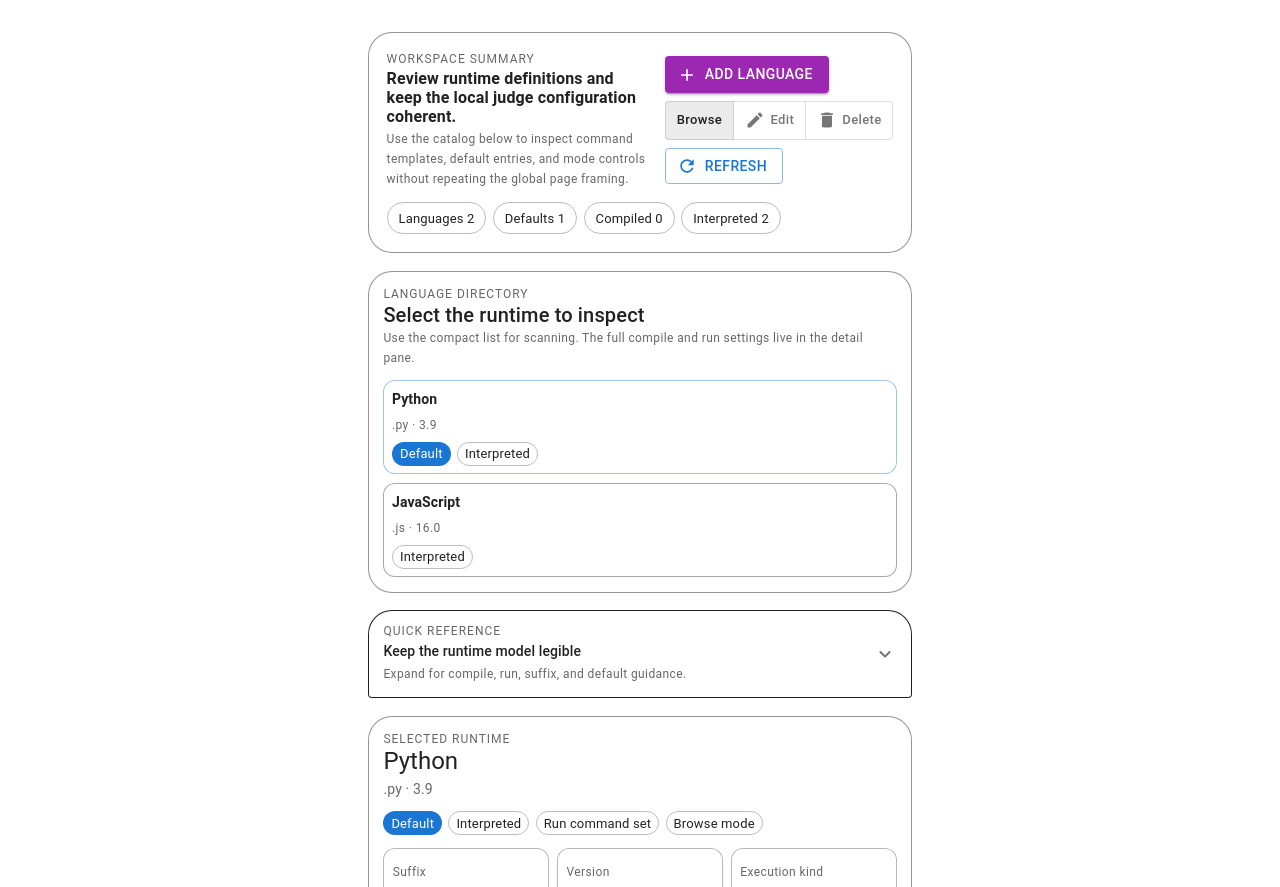
Test: LanguageAdmin Component › deletes a language successfully
Expected: the heading "JavaScript" is shown, [392, 492, 460, 514]
# Enable delete mode and wait for it to take effect
Click the button with aria-label "delete mode" at x=849, y=120, box [805, 101, 893, 140]
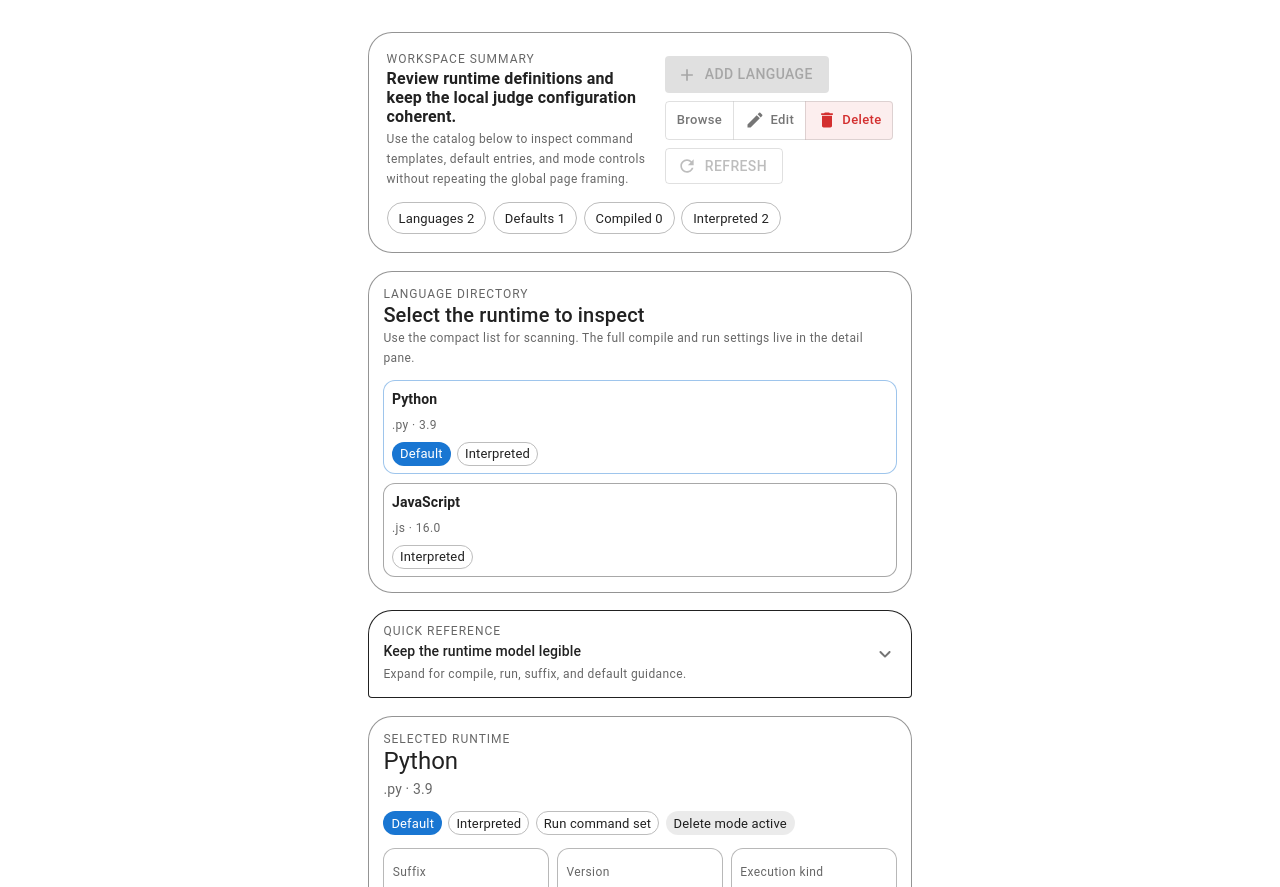
# Select JavaScript, then click its delete button.
Click the option with aria-label "javascript runtime" at x=426, y=502, box [383, 483, 897, 577]
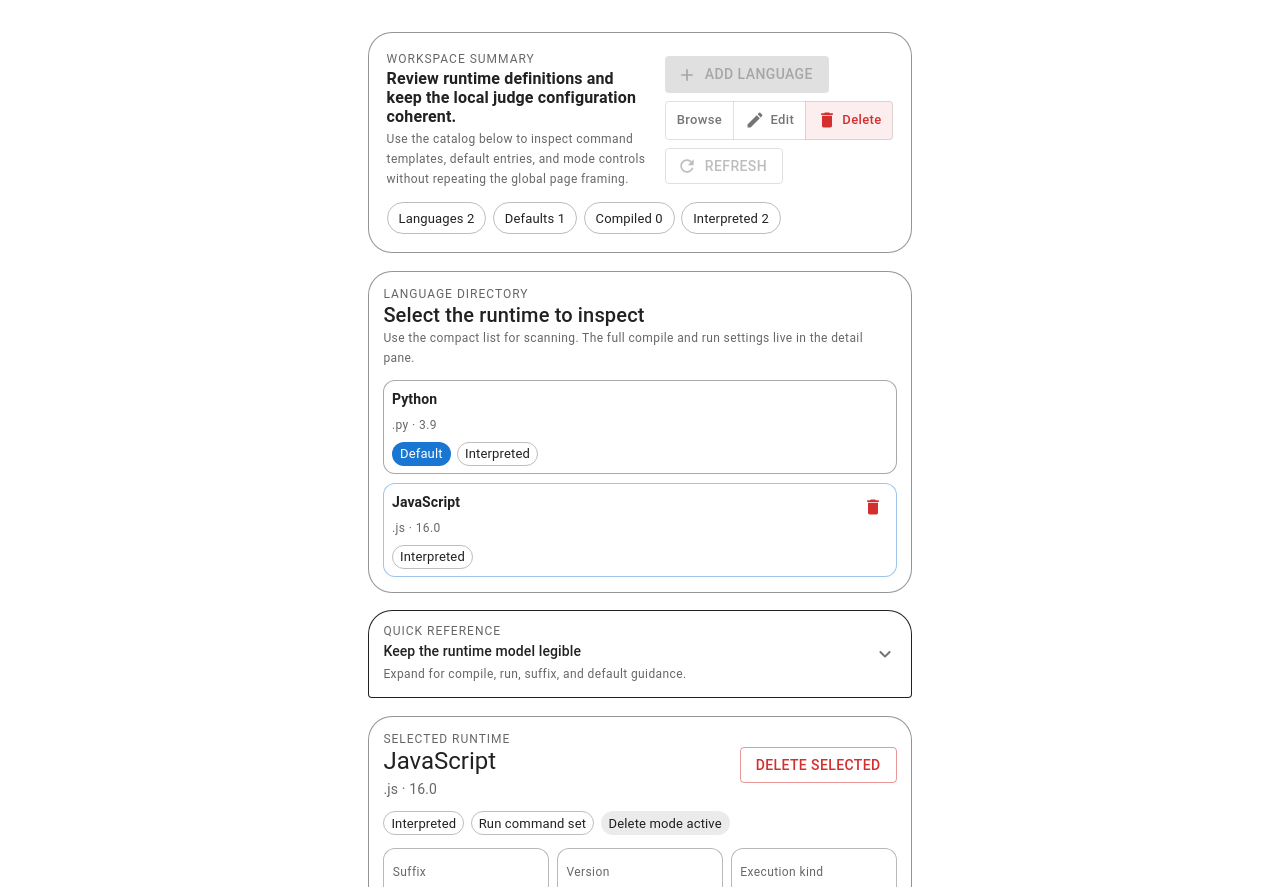
Result: the button named "delete javascript" is shown
Click the button named "delete javascript" at x=873, y=507, box [858, 492, 888, 522]
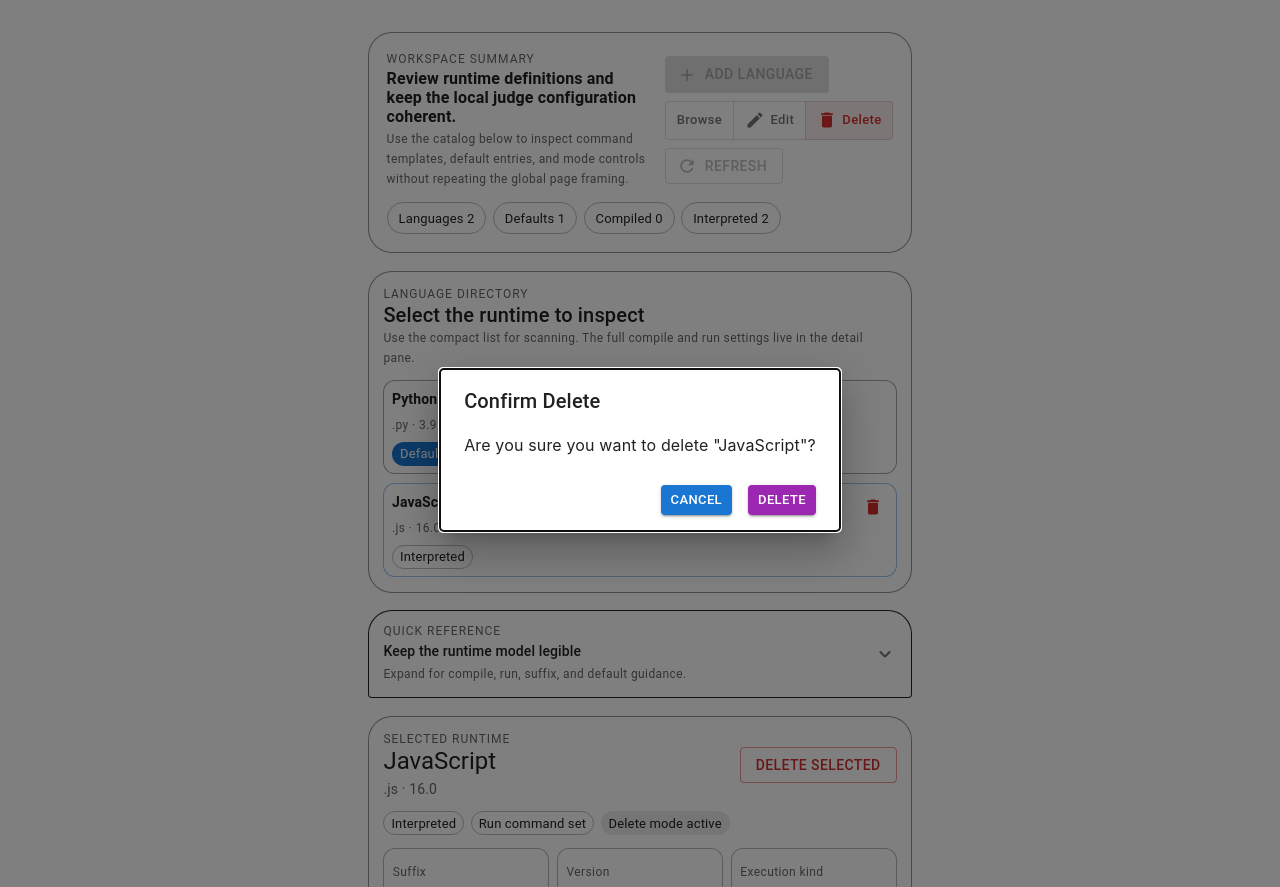
Result: the dialog is shown at [440, 369, 840, 531]
Click the button "Delete" at x=782, y=500, box [748, 485, 816, 515]
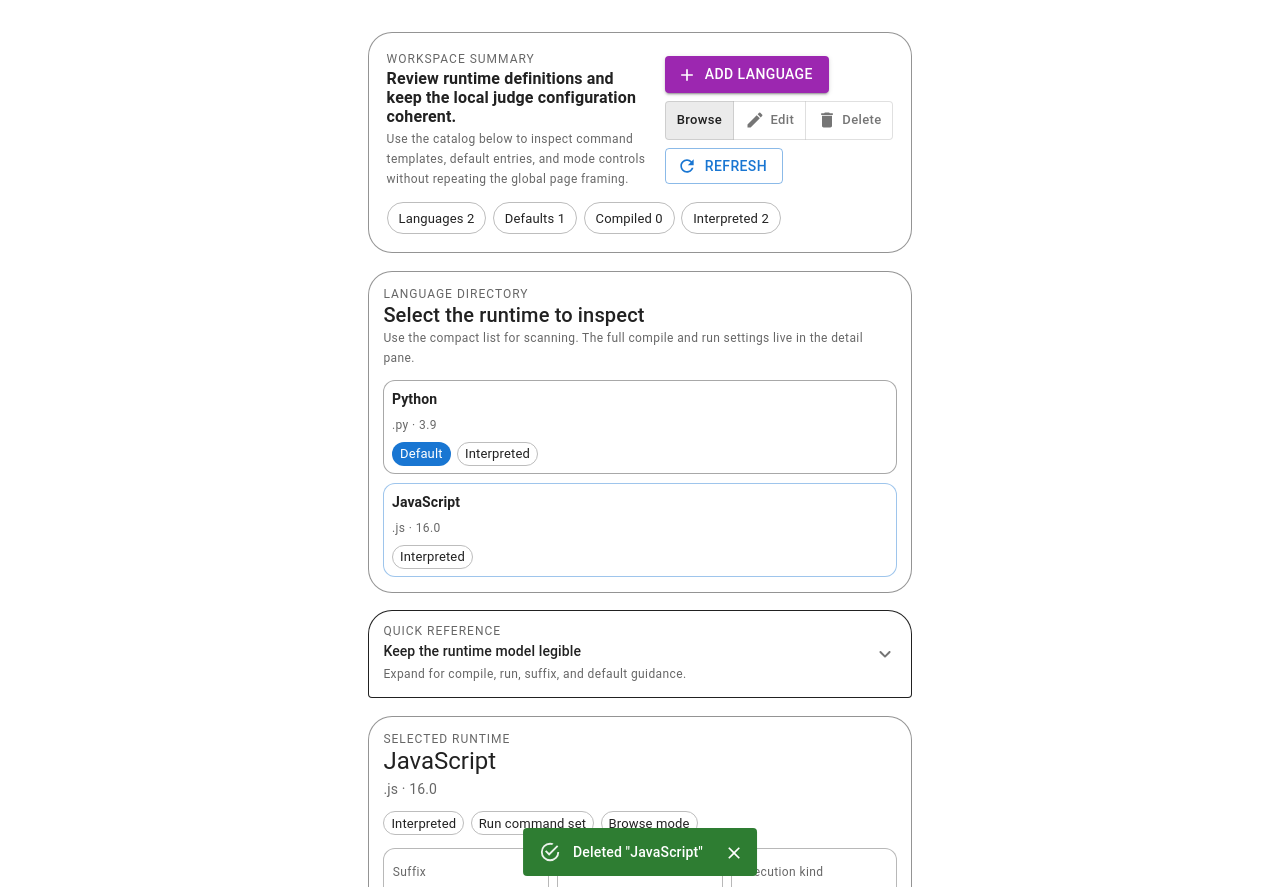
Result: the text "Deleted \"JavaScript\"" is shown at [573, 844, 703, 860]
